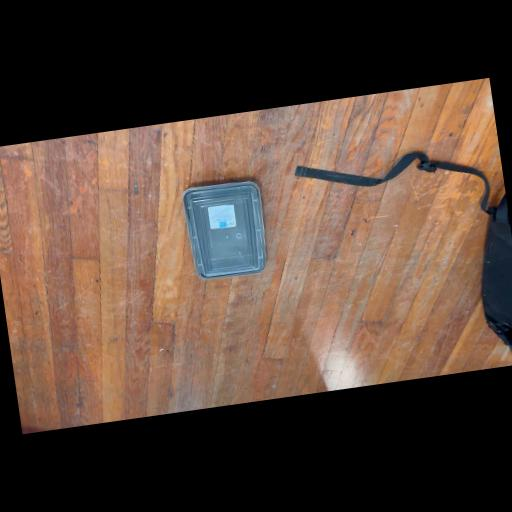rigid_plastic_container: (179, 176, 273, 284)
